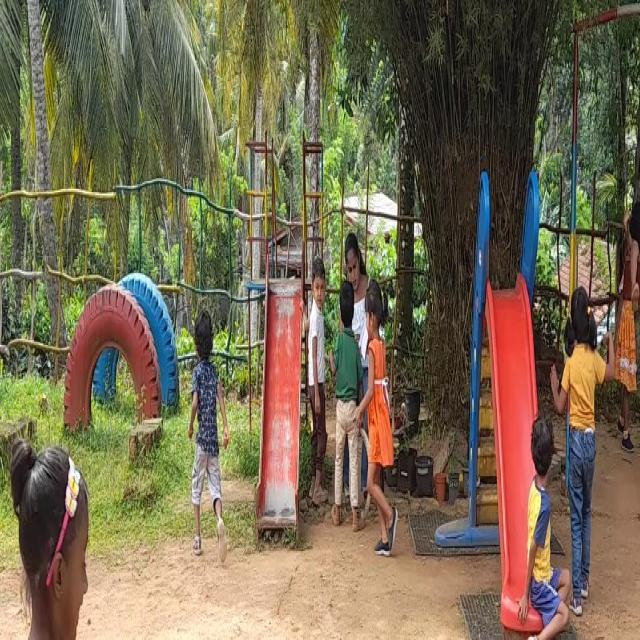child: (1, 442, 118, 640), (561, 290, 596, 608), (364, 294, 401, 566), (525, 421, 568, 640), (301, 236, 332, 516), (326, 285, 362, 522), (189, 309, 224, 545), (623, 147, 640, 310)
